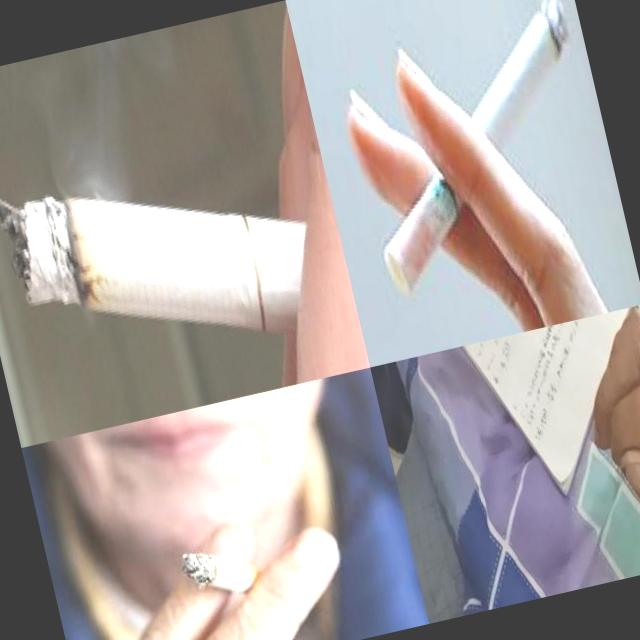cigarette: (334, 0, 618, 301), (0, 116, 310, 390), (178, 533, 278, 613), (625, 303, 640, 407)
